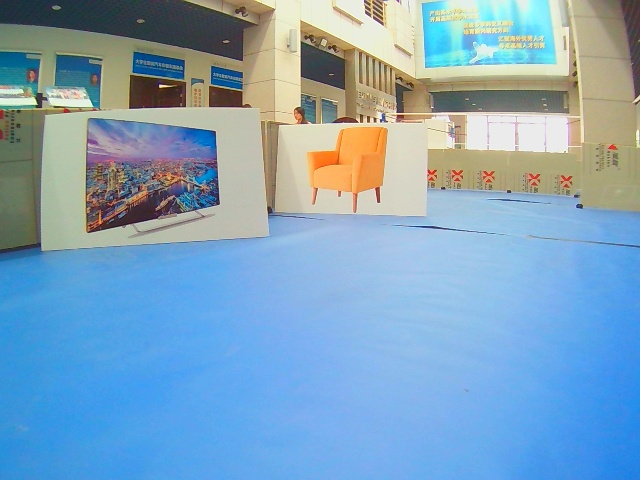sofa: (276, 123, 429, 216)
tv: (39, 108, 269, 252)
